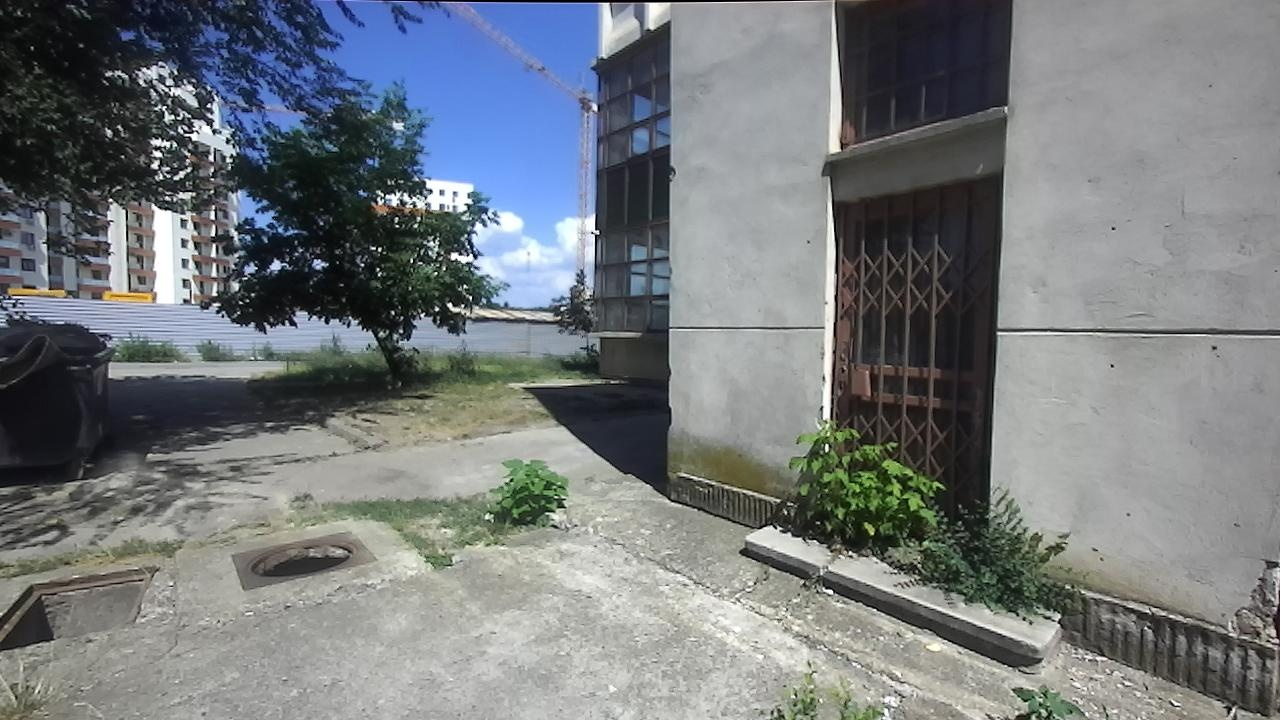drain: (0, 560, 160, 653), (249, 534, 363, 579)
